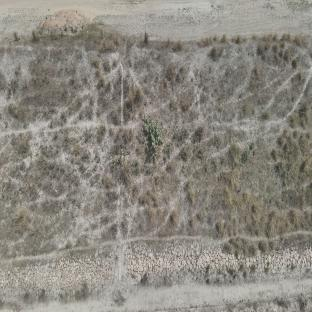rock_toe: (125, 242, 312, 287), (0, 255, 116, 297)
